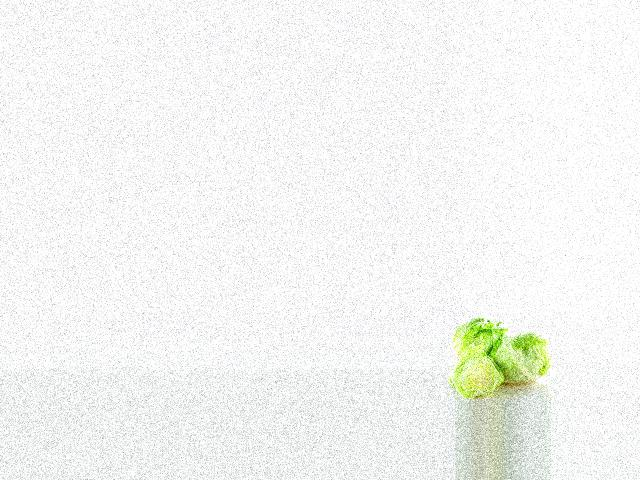lettuce: (450, 312, 510, 361)
